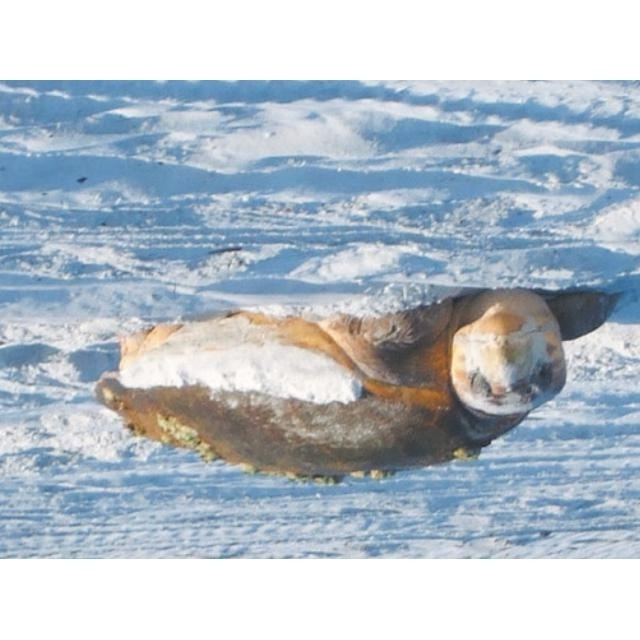turtle: (95, 291, 622, 483)
